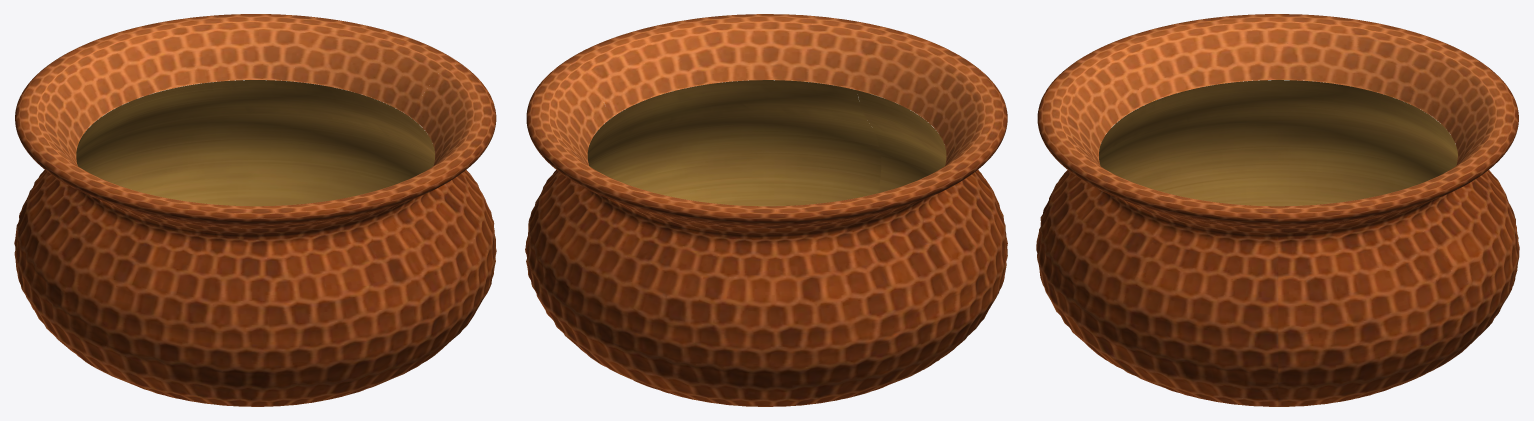
File: copper-handi.glb
The picture shows the model from 3 angles, left to right: view 1: azimuth 30°, elevation 25°; view 2: azimuth 150°, elevation 25°; view 3: azimuth 270°, elevation 25°; orthographic projection.
Visible parts, largest first — view 1: hammered-copper-vessel, interior-bowl-liner; view 2: hammered-copper-vessel, interior-bowl-liner; view 3: hammered-copper-vessel, interior-bowl-liner.
Part boxes in pixels (x1=…): hammered-copper-vessel: x1=14, y1=14, x2=496, y2=406; interior-bowl-liner: x1=76, y1=80, x2=434, y2=206; hammered-copper-vessel: x1=525, y1=14, x2=1007, y2=406; interior-bowl-liner: x1=587, y1=80, x2=946, y2=206; hammered-copper-vessel: x1=1036, y1=14, x2=1519, y2=406; interior-bowl-liner: x1=1099, y1=80, x2=1457, y2=206.
Bounding box in the file's own units: 0.288 × 0.1623 × 0.2883.
2 materials, 2 textured.
